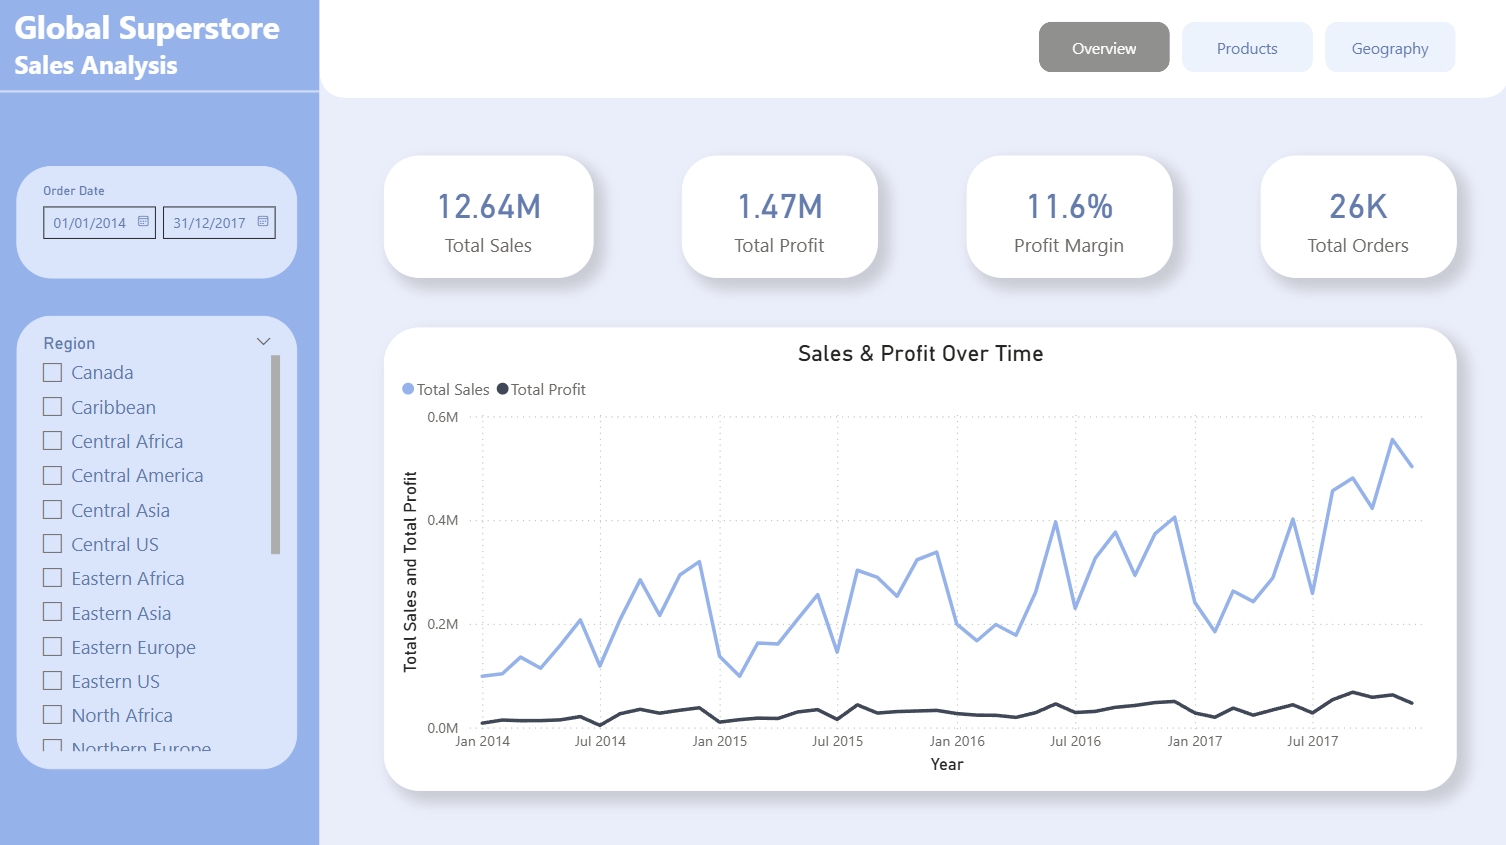

This screenshot's page, from the dashboard's own definition file:
{"tool":"powerbi","page":{"name":"Overview","canvas":[1280,720],"ordinal":0},"visuals":[{"type":"shape","box":[0,0,272,719.6],"z":0},{"type":"shape","box":[271.9,0,1007.3,84.6],"z":1000},{"type":"card","fields":{"Values":["Orders.Total Sales"]},"box":[327,133.4,177.8,103.7],"z":2000},{"type":"card","fields":{"Values":["Orders.Total Profit"]},"box":[579.2,133.5,166.1,103.5],"z":3000},{"type":"card","fields":{"Values":["Orders.Profit Margin"]},"box":[819.7,133.5,174.5,103.5],"z":4000},{"type":"card","fields":{"Values":["Orders.Total Orders"]},"box":[1068.7,133.4,166.1,103.7],"z":5000},{"type":"lineChart","title":"Sales & Profit Over Time","fields":{"Y":["Orders.Total Sales","Orders.Total Profit"],"Category":["Orders.Order Date.Variation.Date Hierarchy.Year","Orders.Order Date.Variation.Date Hierarchy.Month"]},"box":[327,279.3,907.9,392.6],"z":6000},{"type":"slicer","fields":{"Values":["Orders.Order Date"]},"box":[15.9,141.8,238.1,95.2],"z":7000},{"type":"slicer","fields":{"Values":["Returns.Region"]},"box":[15.9,268.8,238.1,384.1],"z":9000},{"type":"pageNavigator","box":[880.8,20.5,353.8,43.3],"z":10000},{"type":"shape","box":[0,62.6,272,33.7],"z":11000},{"type":"textbox","box":[8.4,0,255.1,79.4],"z":12000}]}

Visuals, with their boxes in screenshot pixels (x1, y1, x2, y2), scaled from the page's 1280x720 canvas onto the 1506x845 screenshot:
shape: (0,0,320,844)
shape: (320,0,1505,99)
card - Orders.Total Sales: (385,157,594,278)
card - Orders.Total Profit: (681,157,877,278)
card - Orders.Profit Margin: (964,157,1170,278)
card - Orders.Total Orders: (1257,157,1453,278)
"Sales & Profit Over Time" lineChart: (385,328,1453,789)
slicer - Orders.Order Date: (19,166,299,278)
slicer - Returns.Region: (19,315,299,766)
pageNavigator: (1036,24,1453,75)
shape: (0,73,320,113)
textbox: (10,0,310,93)
